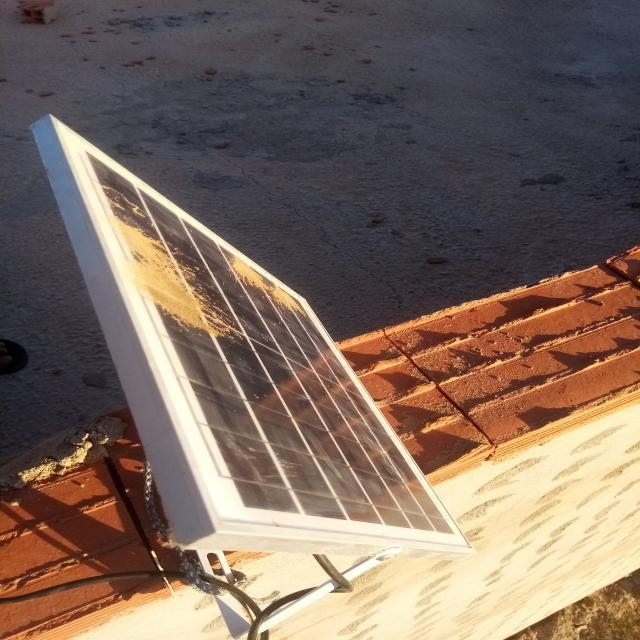faulty: (55, 120, 470, 543)
